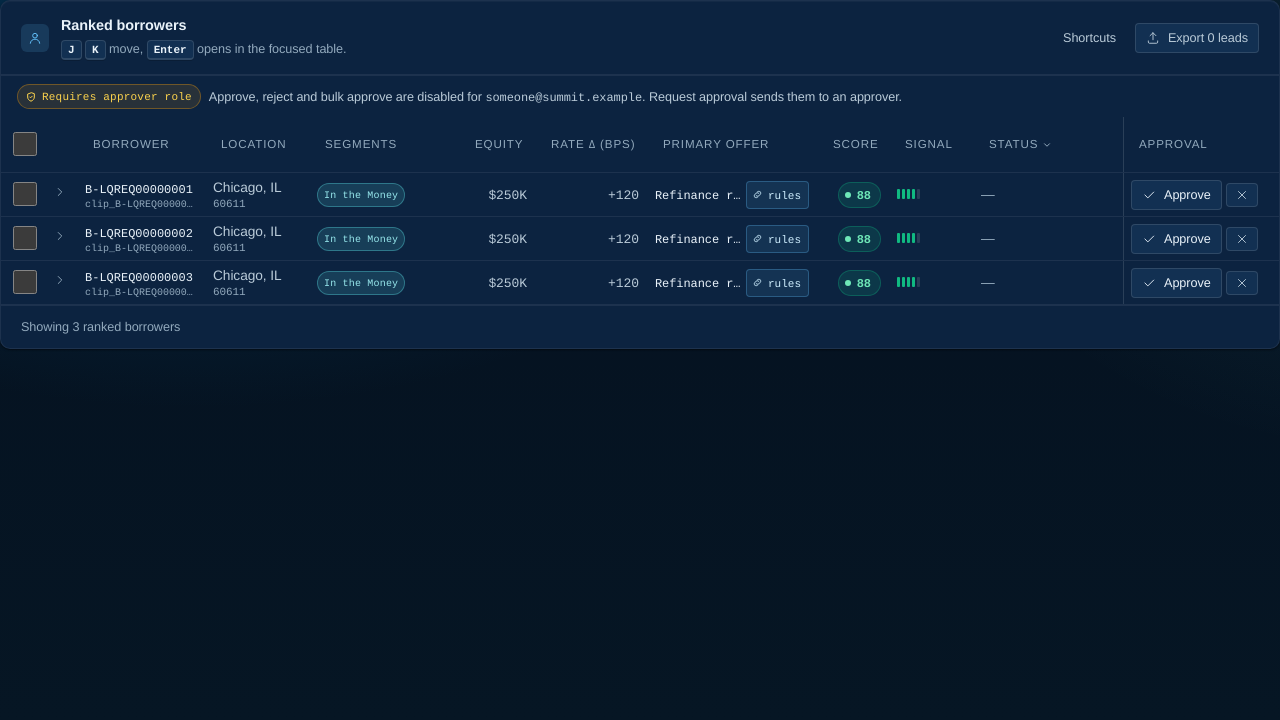
the table: Request approval › opens the lazy form for the eligible selection; nothing is drafted on the request path
The image size is (1280, 720).
Step 1. Click the checkbox named "Select all eligible leads" → (25, 144), box [13,132,37,156]
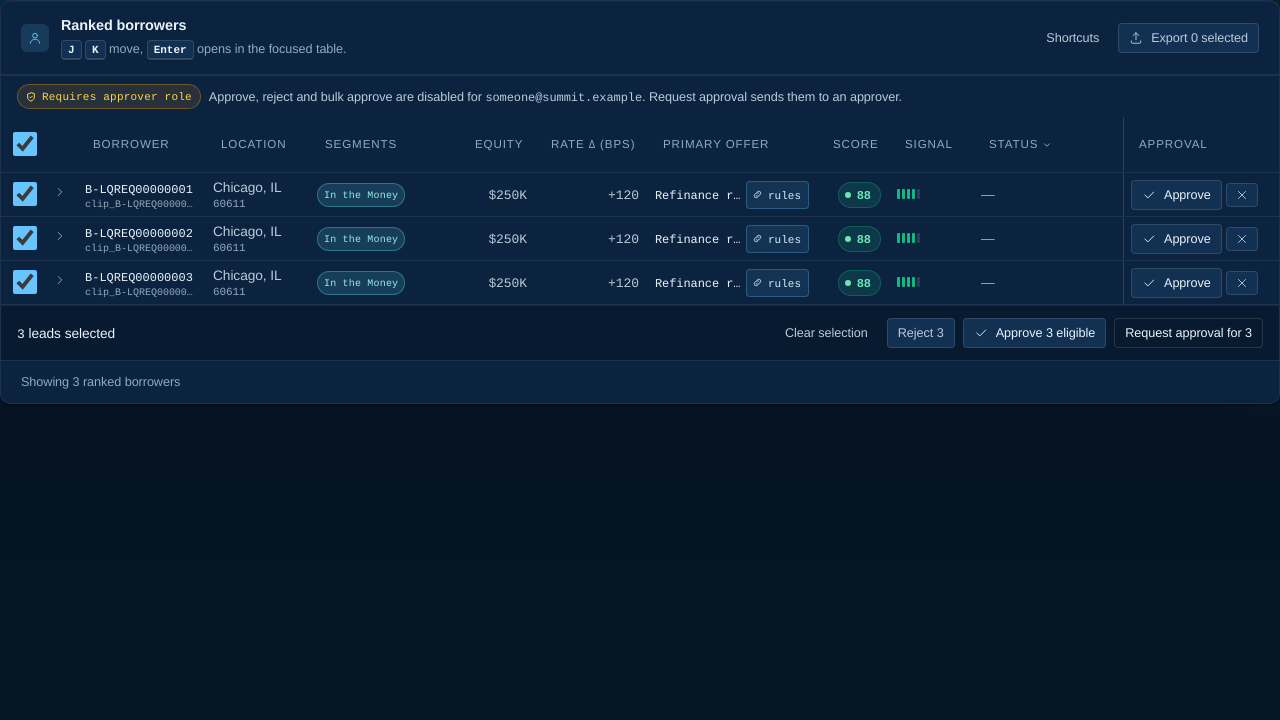
Check: the button with test id "lead-bulk-request-approval" reads "Request approval for 3"
Step 2. Click the button with test id "lead-bulk-request-approval" → (1189, 333), box [1114,318,1263,348]
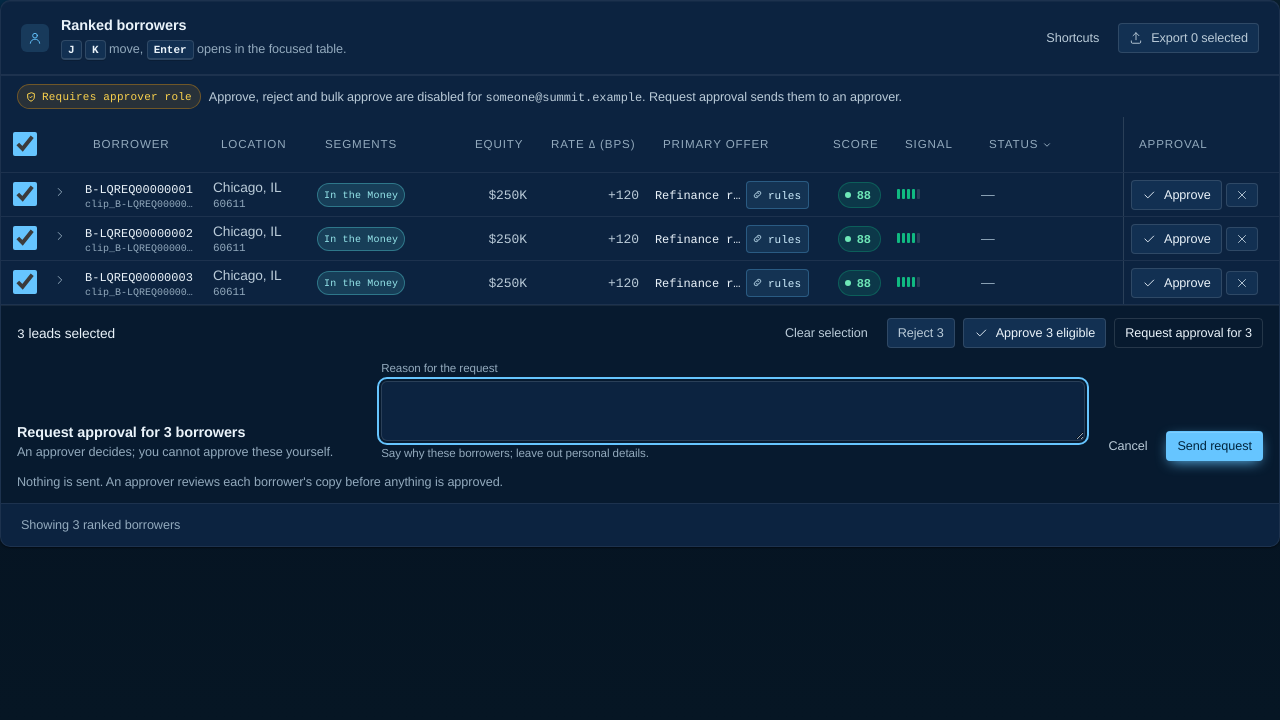
Check: the form with test id "request-approval-form" shows "Request approval for 3 borrowers", box [17,360,1263,491]
